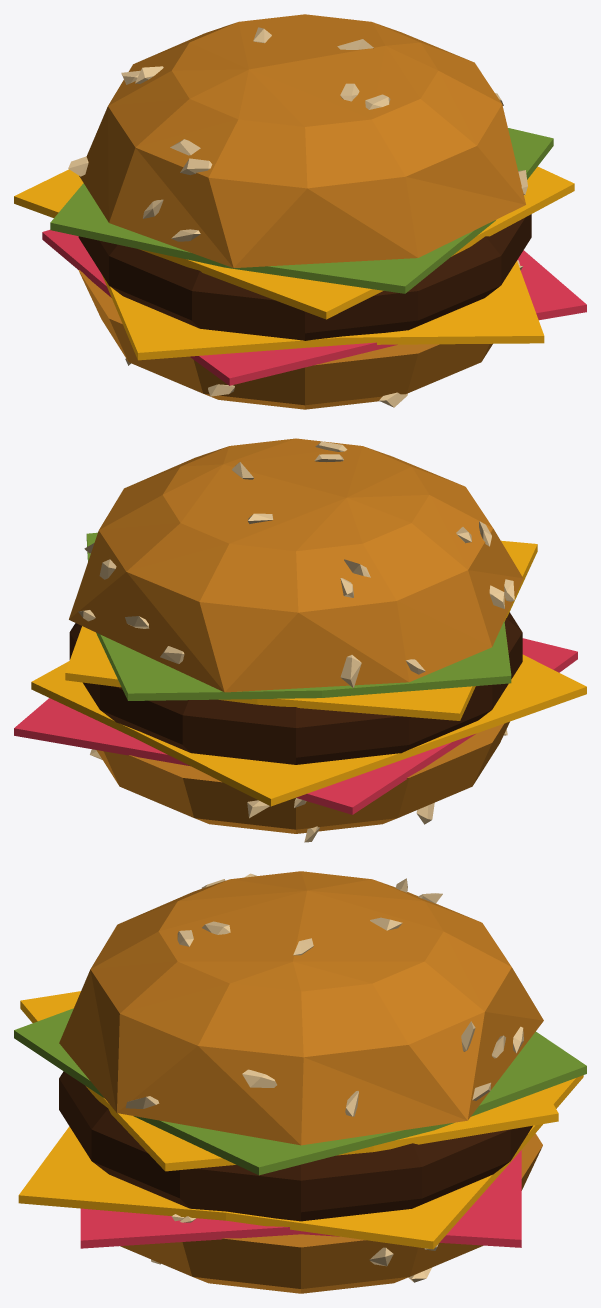
The model's file is burger.fbx.
The picture shows the model from 3 angles, top to bottom: view 1: azimuth 30°, elevation 25°; view 2: azimuth 150°, elevation 25°; view 3: azimuth 270°, elevation 25°; orthographic projection. The views are drawn at different scales.
Visible parts, largest first — view 1: Cylinder.001; view 2: Cylinder.001; view 3: Cylinder.001.
Part boxes in pixels (x1,y1,x2,y2): Cylinder.001: (14, 14, 586, 409); Cylinder.001: (14, 438, 586, 842); Cylinder.001: (14, 871, 586, 1293).
Size of the model in its own units: 0.1874 by 0.1142 by 0.1876.
3 materials, 3 textured.
